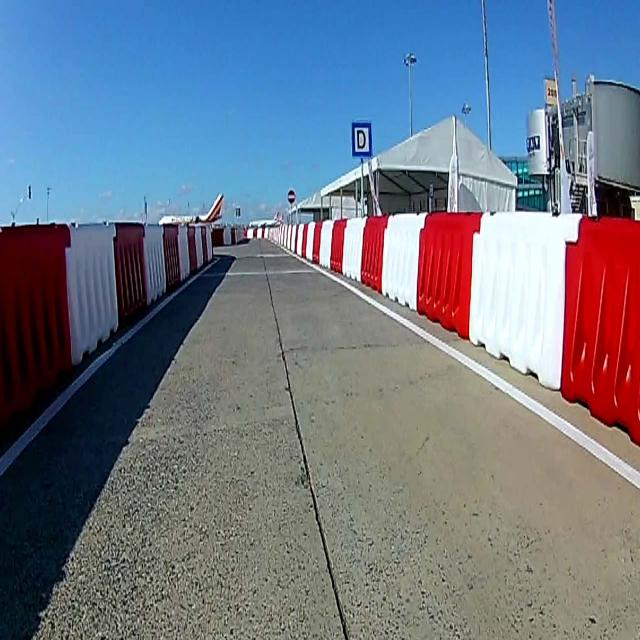durak: (352, 120, 371, 158)
girisyok: (287, 188, 295, 204)
